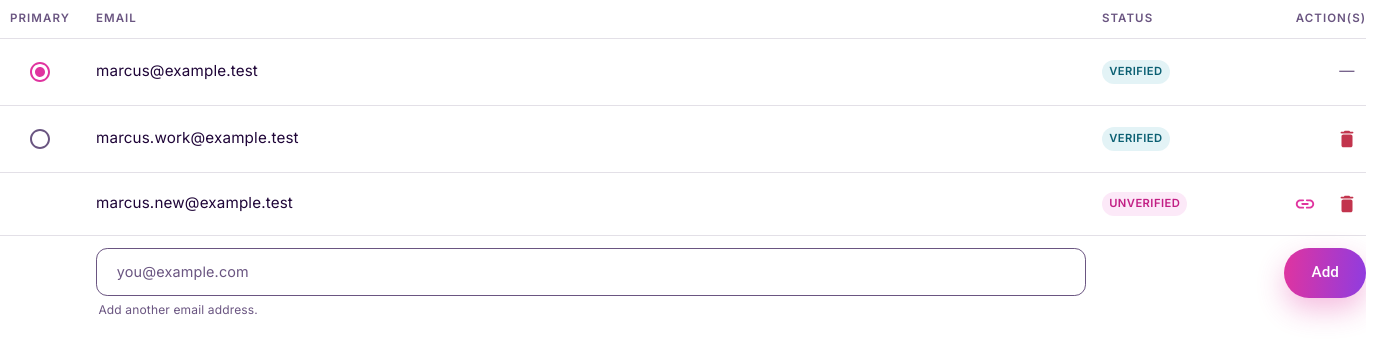
Test: the last row, which adds an address › takes the message away as soon as the field is touched again
Type "marcus" into the field named "Add an email address" at (591, 272), box [96,248,1086,296]
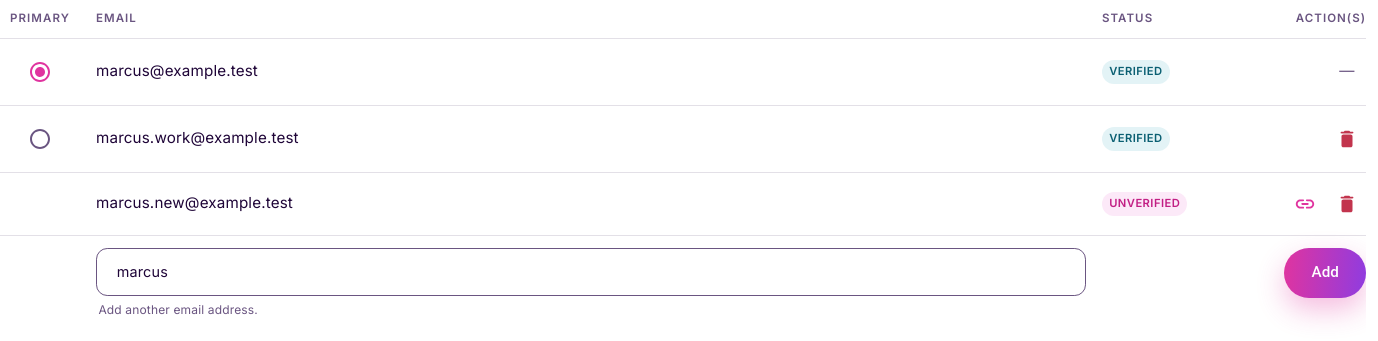
Click the button "Add" at (1325, 273), box [1284,248,1366,298]
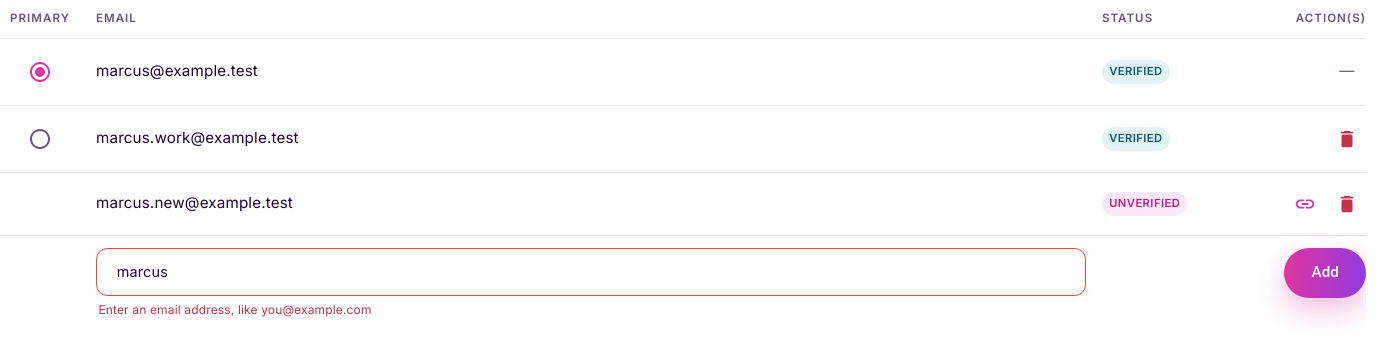
Replace the text in the field named "Add an email address" with "marcus@" at (591, 272), box [96,248,1086,296]
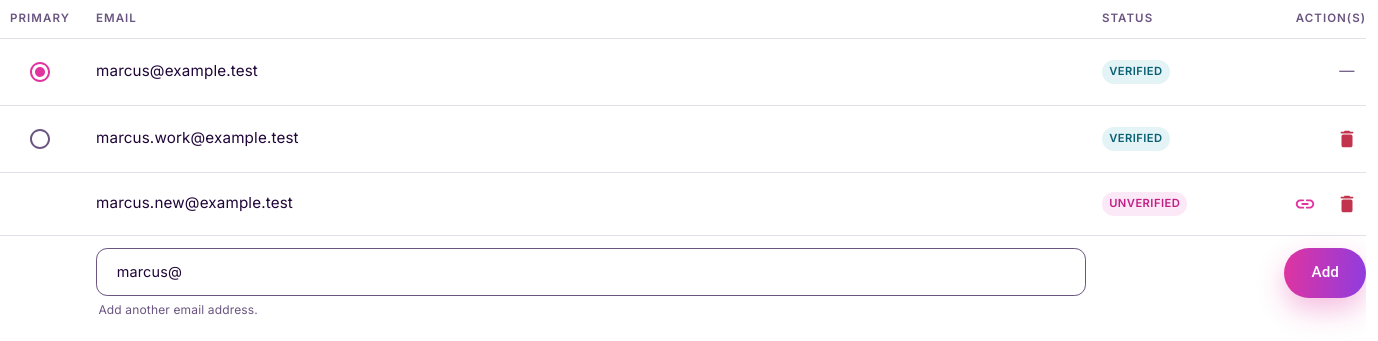
expect the text "you@example.com" is gone: met
